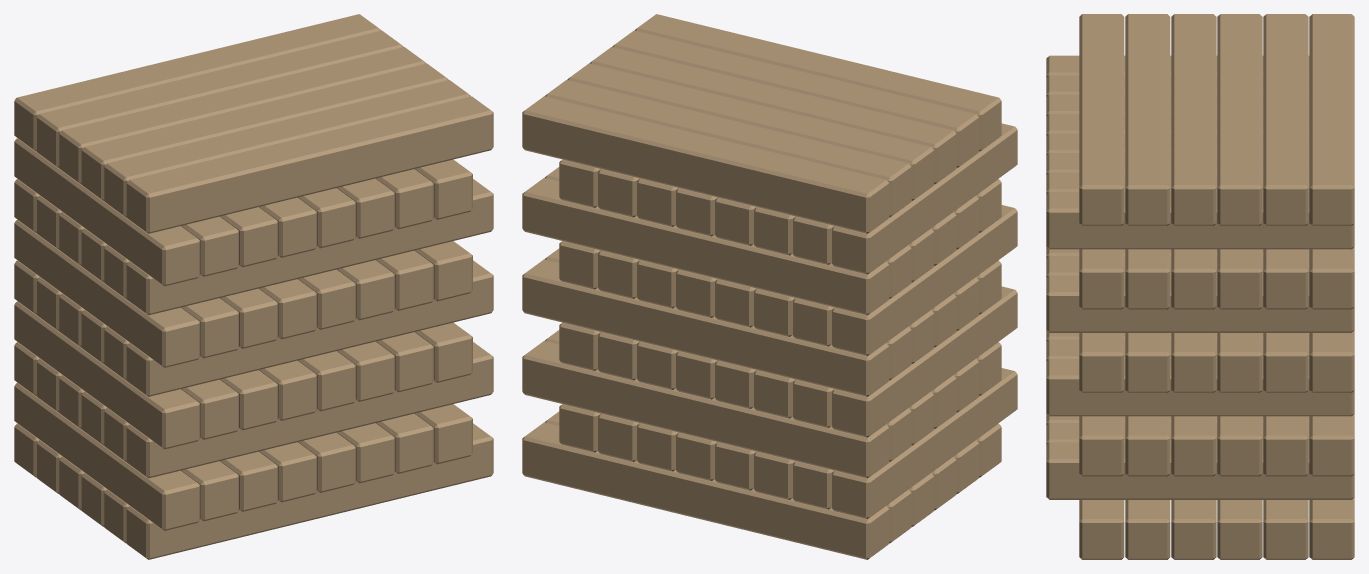
Rendered from covers_pile_traverses.glb.
3 renders of one model, left to right at view 1: azimuth 30°, elevation 25°; view 2: azimuth 150°, elevation 25°; view 3: azimuth 270°, elevation 25°, orthographic. The views are drawn at different scales.
Visible parts, largest first — view 1: covers_pile_traverses; view 2: covers_pile_traverses; view 3: covers_pile_traverses.
Boxes of the visible parts, <box> form: covers_pile_traverses: <box>14,14,493,559</box>; covers_pile_traverses: <box>522,14,1017,559</box>; covers_pile_traverses: <box>1046,14,1354,559</box>.
Bounding box in the file's own units: 2 × 2.01 × 1.5.
